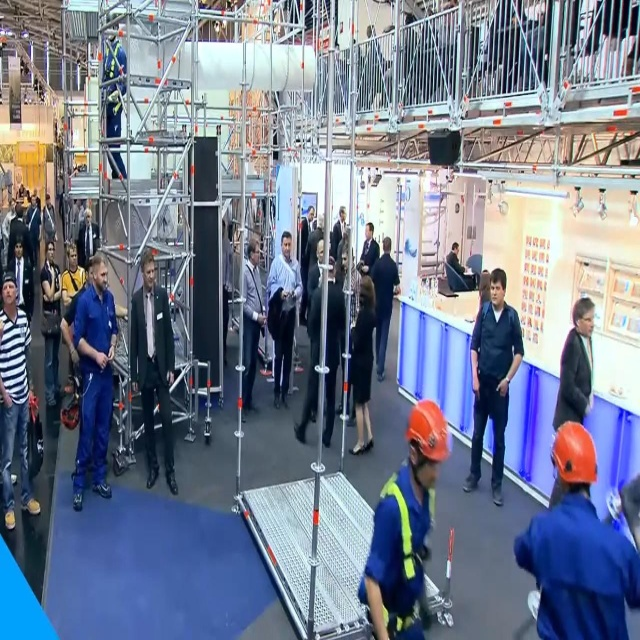Arnes_seguridad: (361, 464, 444, 640)
